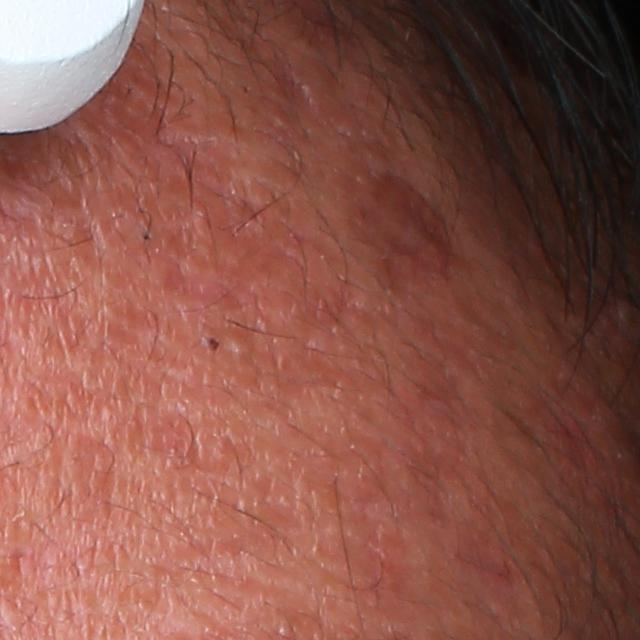comedo: (201, 329, 222, 355)
